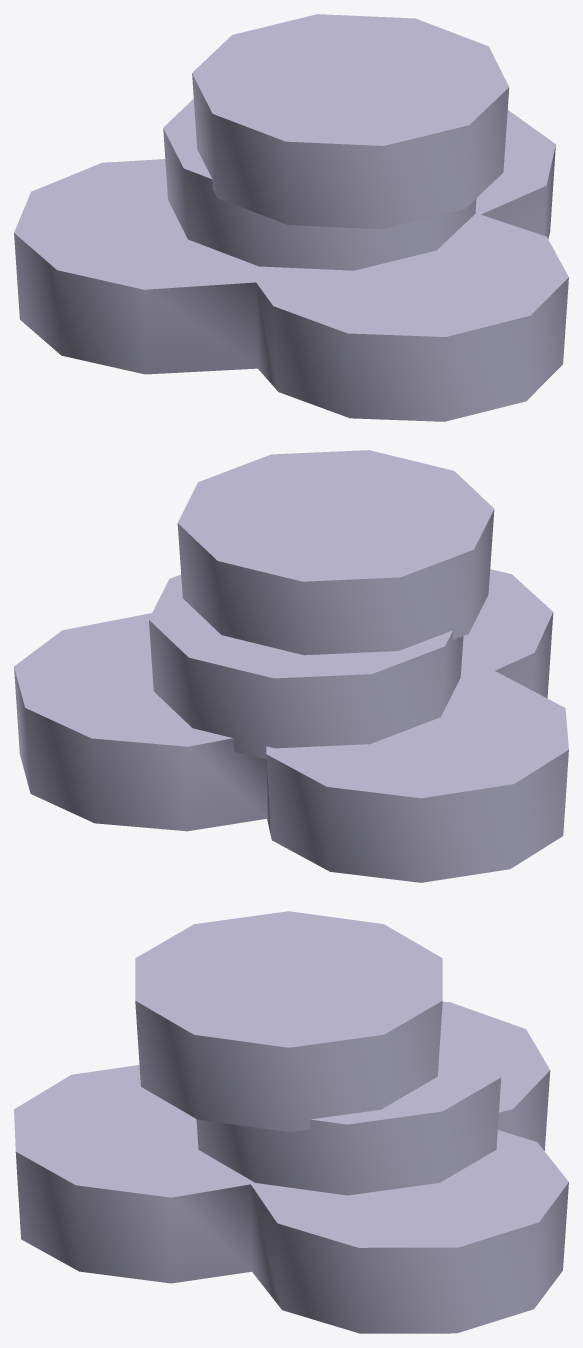
File: COINPICKUP05.fbx
The picture shows the model from 3 angles, top to bottom: view 1: azimuth 30°, elevation 25°; view 2: azimuth 150°, elevation 25°; view 3: azimuth 270°, elevation 25°; orthographic projection.
Parts seen in each view (by area): view 1: COINPICKUP05; view 2: COINPICKUP05; view 3: COINPICKUP05.
Boxes of the visible parts, bbox=[...] form: COINPICKUP05: bbox=[14, 14, 568, 421]; COINPICKUP05: bbox=[14, 450, 568, 882]; COINPICKUP05: bbox=[14, 911, 568, 1333].
Size of the model in its own units: 4130 by 1845 by 3893.
